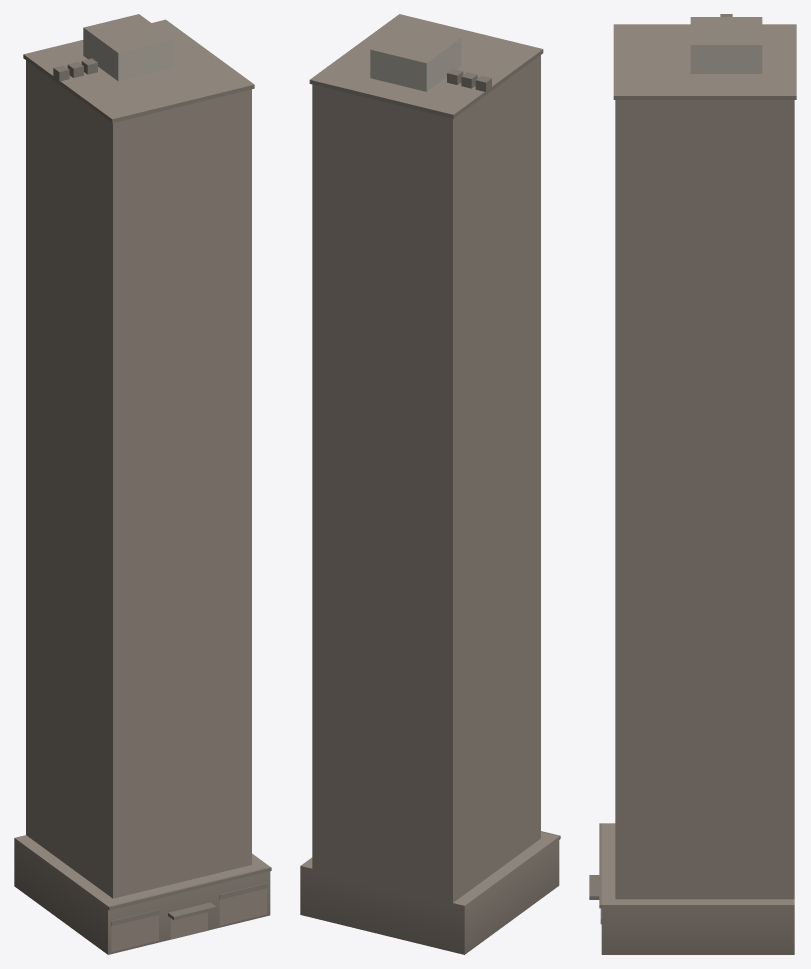
File: tower_curtain_a.glb
The picture shows the model from 3 angles, left to right: view 1: azimuth 30°, elevation 25°; view 2: azimuth 150°, elevation 25°; view 3: azimuth 270°, elevation 25°; orthographic projection. The views are drawn at different scales.
Visible parts, largest first — view 1: tower_curtain_a; view 2: tower_curtain_a; view 3: tower_curtain_a.
Boxes of the visible parts, x1,y1,x2,y2 form: tower_curtain_a: (14, 14, 271, 954); tower_curtain_a: (300, 14, 560, 954); tower_curtain_a: (589, 14, 796, 954).
Size of the model in its own units: 25.2 by 127 by 27.05.
